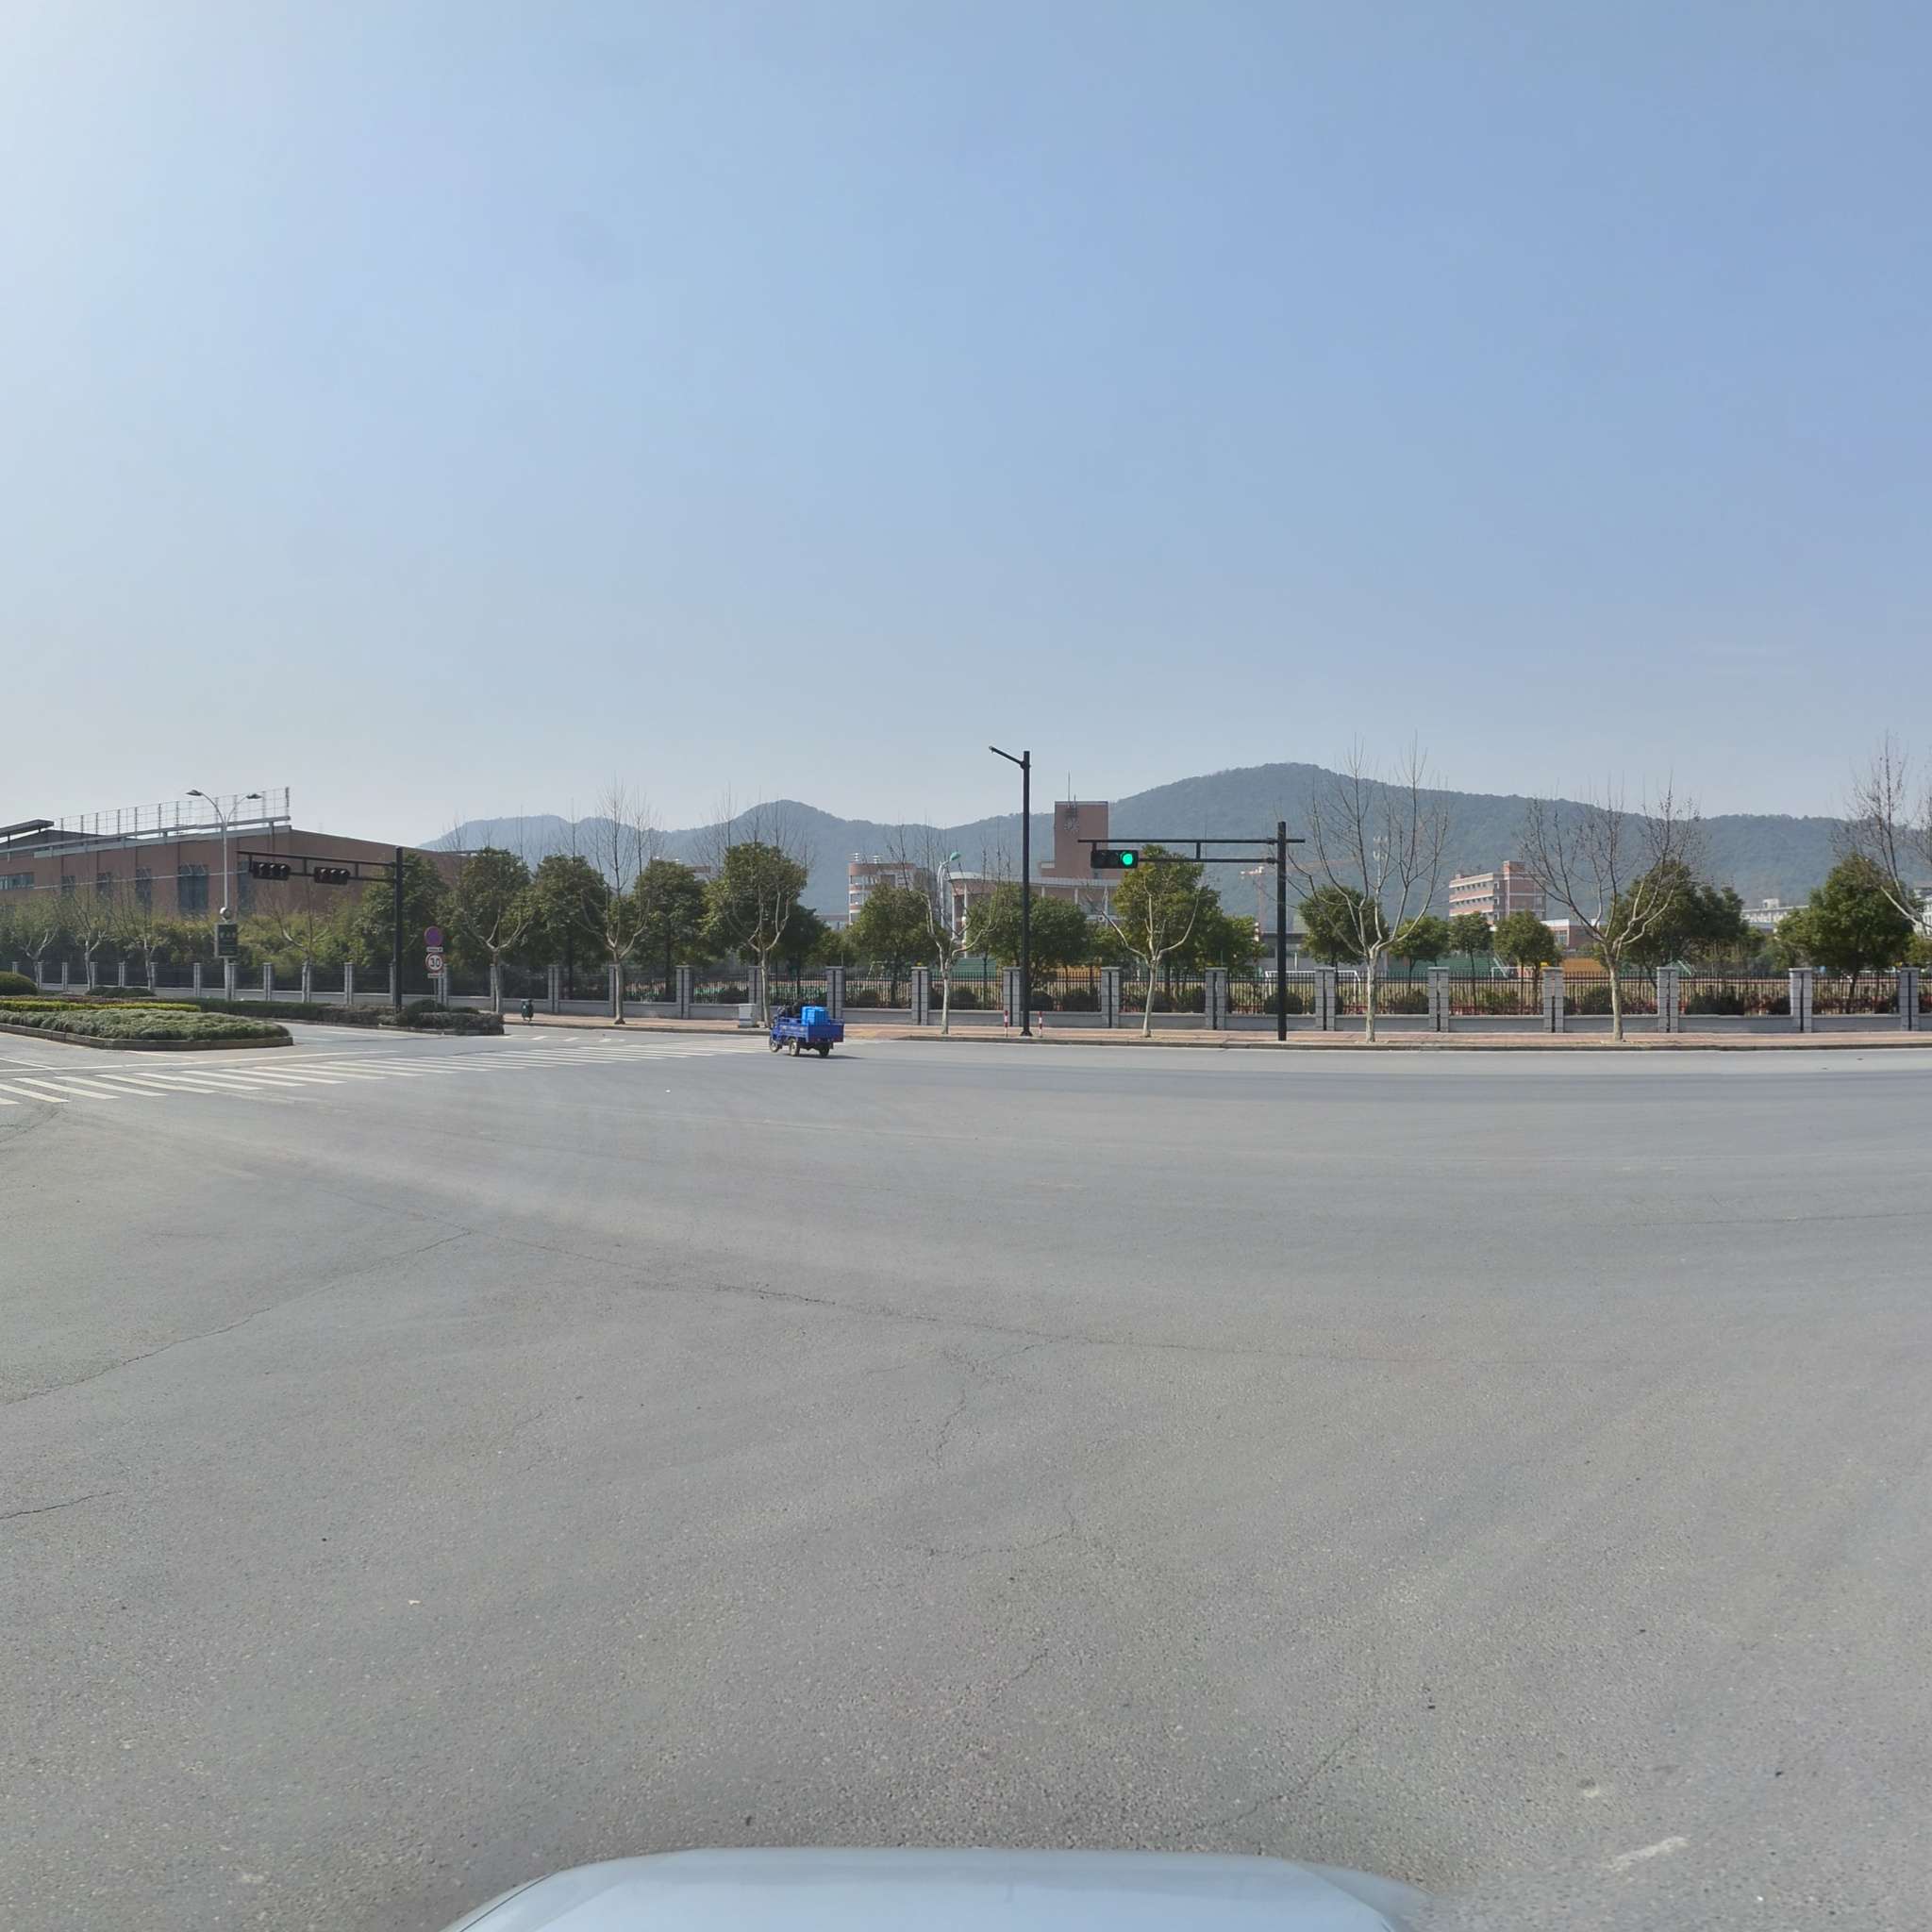traffic_sign: (421, 925, 444, 947), (425, 948, 444, 971)
